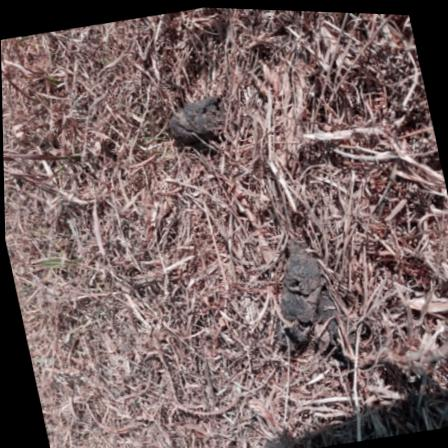dog-poop: (254, 235, 349, 366), (159, 92, 232, 161)
